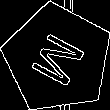M_SE: (24, 26, 91, 90)
